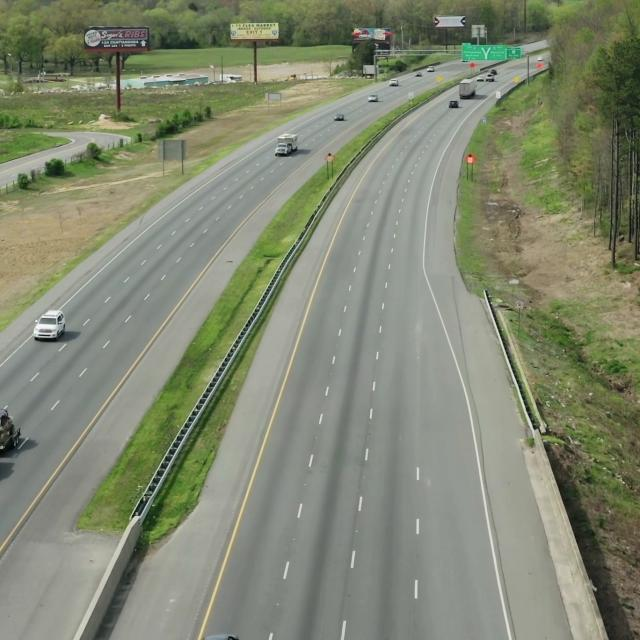Car: (30, 308, 72, 346), (272, 130, 302, 158)
